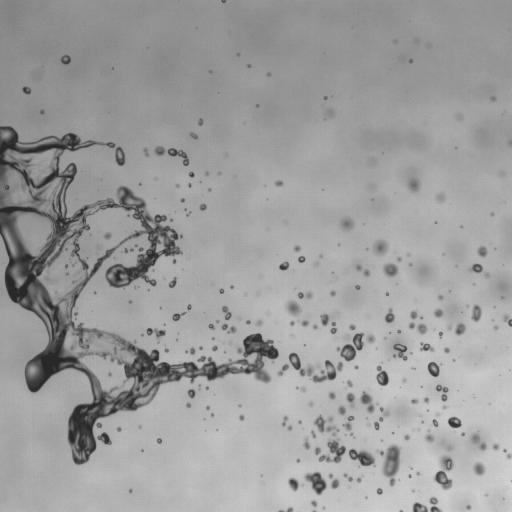droplet: (336, 332, 376, 361), (432, 454, 454, 490), (320, 310, 340, 335), (359, 390, 379, 413), (470, 430, 487, 451), (145, 328, 166, 344), (284, 299, 302, 317), (444, 322, 465, 336), (372, 238, 388, 256), (392, 343, 407, 361), (446, 416, 462, 432), (435, 384, 449, 402), (382, 262, 398, 277), (427, 361, 442, 377), (339, 216, 354, 231), (407, 177, 421, 193), (384, 308, 395, 325), (472, 462, 485, 476), (471, 304, 481, 322), (328, 473, 339, 489), (419, 342, 435, 352), (345, 392, 355, 408), (323, 108, 335, 120), (424, 428, 434, 442), (435, 191, 446, 203), (409, 310, 423, 319), (342, 379, 353, 390), (17, 133, 28, 144), (61, 149, 72, 160), (178, 185, 189, 196), (145, 205, 156, 216), (340, 229, 351, 240), (139, 238, 150, 249), (366, 250, 377, 261), (286, 252, 297, 263), (382, 252, 393, 263), (156, 254, 167, 265), (126, 256, 137, 267), (373, 266, 384, 277), (156, 278, 167, 289), (218, 294, 229, 305), (423, 314, 434, 325), (461, 314, 472, 325), (434, 317, 445, 328), (164, 321, 175, 332), (336, 322, 347, 333), (233, 332, 244, 343), (396, 334, 407, 345), (35, 341, 46, 352), (407, 341, 418, 352), (422, 351, 433, 362), (330, 352, 341, 363), (276, 353, 287, 364), (165, 354, 176, 365), (60, 367, 71, 378), (48, 373, 59, 384), (195, 374, 206, 385), (335, 394, 346, 405), (116, 408, 127, 419), (334, 414, 345, 425), (58, 423, 69, 434), (293, 429, 304, 440), (319, 431, 330, 442), (392, 435, 403, 446), (61, 442, 72, 453), (365, 444, 376, 455), (475, 451, 486, 462), (373, 454, 384, 465), (395, 467, 406, 478), (502, 313, 511, 326), (477, 246, 487, 257), (168, 276, 177, 288), (60, 55, 70, 65), (433, 308, 443, 318), (278, 261, 289, 270), (185, 346, 195, 355), (187, 389, 196, 398), (193, 125, 202, 134), (78, 133, 87, 142), (418, 180, 427, 189), (400, 182, 409, 191), (131, 187, 140, 196), (352, 219, 361, 228), (346, 228, 355, 237), (380, 232, 389, 241), (366, 238, 375, 247), (475, 255, 484, 264), (288, 258, 297, 267), (101, 259, 110, 268), (145, 268, 154, 277), (134, 276, 143, 285), (434, 300, 443, 309), (296, 311, 305, 320), (389, 320, 398, 329), (248, 325, 257, 334), (124, 333, 133, 342), (420, 333, 429, 342), (203, 348, 212, 357), (158, 353, 167, 362), (184, 353, 193, 362), (188, 353, 197, 362), (301, 374, 310, 383), (180, 375, 189, 384), (433, 375, 442, 384), (302, 391, 311, 400), (84, 394, 93, 403), (371, 409, 380, 418), (438, 417, 447, 426), (91, 426, 100, 435), (308, 438, 317, 447), (379, 442, 388, 451), (320, 445, 329, 454), (397, 451, 406, 460), (340, 452, 349, 461), (333, 470, 342, 479), (296, 475, 305, 484), (338, 477, 347, 486), (323, 485, 332, 494), (328, 391, 336, 401), (22, 86, 31, 94), (254, 318, 263, 326), (189, 132, 198, 139), (142, 147, 149, 156), (356, 474, 363, 483), (310, 499, 317, 508), (296, 386, 306, 392), (455, 113, 463, 120), (103, 232, 111, 239), (293, 245, 301, 252), (298, 255, 305, 263), (208, 323, 216, 330), (348, 323, 356, 330), (492, 443, 500, 450), (445, 444, 453, 451), (0, 276, 5, 287), (274, 180, 283, 186), (311, 323, 320, 329), (437, 330, 443, 339), (310, 429, 316, 438), (199, 203, 206, 210), (147, 147, 154, 154), (185, 164, 192, 171), (209, 169, 216, 176), (99, 193, 106, 200), (65, 211, 72, 218), (159, 220, 166, 227), (129, 237, 136, 244), (173, 238, 180, 245), (124, 240, 131, 247), (485, 246, 492, 253), (2, 256, 9, 263), (401, 256, 408, 263), (390, 274, 397, 281), (311, 288, 318, 295), (294, 297, 301, 304), (13, 302, 20, 309), (325, 308, 332, 315), (466, 308, 473, 315), (479, 312, 486, 319), (259, 313, 266, 320), (287, 313, 294, 320), (314, 317, 321, 324), (413, 317, 420, 324), (226, 319, 233, 326), (294, 321, 301, 328), (214, 322, 221, 329), (325, 322, 332, 329), (96, 323, 103, 330), (305, 324, 312, 331), (374, 335, 381, 342), (272, 341, 279, 348), (144, 347, 151, 354), (194, 350, 201, 357), (446, 351, 453, 358), (236, 352, 243, 359), (214, 358, 221, 365), (349, 358, 356, 365), (195, 361, 202, 368), (299, 361, 306, 368), (239, 371, 246, 378), (79, 372, 86, 379), (225, 372, 232, 379), (213, 376, 220, 383), (323, 378, 330, 385), (256, 379, 263, 386), (190, 382, 197, 389), (21, 384, 28, 391), (347, 386, 354, 393), (184, 395, 191, 402), (353, 395, 360, 402), (342, 400, 349, 407), (360, 402, 367, 409), (236, 407, 243, 414), (65, 408, 72, 415), (344, 408, 351, 415), (311, 424, 318, 431), (339, 426, 346, 433), (419, 429, 426, 436), (61, 431, 68, 438), (464, 432, 471, 439), (478, 435, 485, 442), (95, 439, 102, 446), (485, 441, 492, 448), (472, 442, 479, 449), (89, 451, 96, 458), (447, 451, 454, 458), (482, 462, 489, 469), (434, 464, 441, 471), (467, 466, 474, 473), (307, 467, 314, 474), (445, 470, 452, 477), (320, 472, 327, 479), (392, 472, 399, 479), (471, 472, 478, 479), (382, 475, 389, 482), (324, 478, 331, 485), (305, 480, 312, 487), (284, 483, 291, 490), (445, 487, 452, 494), (309, 489, 316, 496), (425, 502, 432, 509), (197, 118, 203, 126), (95, 244, 103, 250), (411, 398, 419, 404), (329, 290, 335, 297), (289, 332, 295, 339), (211, 345, 217, 352), (423, 397, 429, 404), (307, 400, 313, 407), (238, 414, 244, 421), (403, 434, 410, 440), (376, 488, 382, 495), (164, 345, 169, 353), (441, 404, 449, 409), (188, 171, 194, 177), (499, 171, 505, 177), (355, 284, 361, 290), (437, 294, 443, 300), (106, 371, 112, 377), (156, 438, 162, 444), (0, 241, 4, 250), (490, 96, 496, 101), (313, 261, 319, 266), (444, 347, 449, 353), (401, 377, 406, 383), (507, 139, 511, 146), (507, 446, 511, 453), (204, 171, 209, 176), (396, 256, 401, 261), (219, 288, 224, 293), (266, 310, 271, 315), (493, 325, 498, 330), (186, 402, 191, 407), (205, 405, 210, 410), (209, 412, 214, 417), (116, 426, 121, 431), (466, 504, 471, 509), (59, 62, 64, 67), (66, 62, 71, 67), (20, 91, 25, 96), (43, 108, 48, 113), (37, 113, 42, 118), (193, 118, 198, 123), (202, 119, 207, 124), (1, 121, 6, 126), (13, 126, 18, 131), (71, 129, 76, 134), (44, 131, 49, 136), (57, 133, 62, 138), (89, 135, 94, 140), (92, 136, 97, 141), (188, 136, 193, 141), (104, 137, 109, 142), (89, 144, 94, 149), (104, 145, 109, 150), (138, 145, 143, 150), (163, 145, 168, 150), (174, 145, 179, 150), (110, 147, 115, 152), (122, 147, 127, 152), (63, 148, 68, 153), (139, 151, 144, 156), (163, 151, 168, 156), (186, 153, 191, 158), (110, 155, 115, 160), (123, 156, 128, 161), (178, 156, 183, 161), (112, 160, 117, 165), (122, 162, 127, 167), (75, 165, 80, 170), (73, 174, 78, 179), (276, 175, 281, 180), (187, 176, 192, 181), (69, 181, 74, 186), (270, 182, 275, 187), (276, 185, 281, 190), (200, 198, 205, 203), (181, 201, 186, 206), (195, 201, 200, 206), (78, 203, 83, 208), (194, 204, 199, 209), (158, 210, 163, 215), (149, 212, 154, 217), (175, 229, 180, 234), (143, 232, 148, 237), (294, 240, 299, 245), (480, 241, 485, 246), (121, 242, 126, 247), (288, 245, 293, 250), (140, 249, 145, 254), (110, 251, 115, 256), (296, 251, 301, 256), (396, 251, 401, 256), (173, 253, 178, 258), (167, 254, 172, 259), (313, 255, 318, 260), (317, 257, 322, 262), (277, 259, 282, 264), (393, 260, 398, 265), (467, 262, 472, 267), (361, 264, 366, 269), (367, 266, 372, 271), (481, 266, 486, 271), (351, 267, 356, 272), (280, 269, 285, 274), (358, 270, 363, 275), (470, 270, 475, 275), (479, 270, 484, 275), (366, 275, 371, 280), (85, 281, 90, 286), (104, 281, 109, 286), (145, 282, 150, 287), (109, 285, 114, 290), (329, 285, 334, 290), (117, 286, 122, 291), (293, 289, 298, 294), (301, 289, 306, 294), (438, 289, 443, 294), (325, 291, 330, 296), (334, 292, 339, 297), (75, 297, 80, 302), (182, 306, 187, 311), (227, 306, 232, 311), (440, 306, 445, 311), (71, 307, 76, 312), (176, 308, 181, 313), (320, 309, 325, 314), (383, 309, 388, 314), (391, 309, 396, 314), (28, 310, 33, 315), (220, 311, 225, 316), (416, 311, 421, 316), (179, 314, 184, 319), (393, 316, 398, 321), (434, 316, 439, 321), (36, 317, 41, 322), (241, 317, 246, 322), (408, 317, 413, 322), (221, 318, 226, 323), (326, 320, 331, 325), (352, 320, 357, 325), (73, 321, 78, 326), (386, 321, 391, 326), (490, 321, 495, 326), (503, 321, 508, 326), (82, 323, 87, 328), (158, 325, 163, 330), (412, 326, 417, 331), (141, 328, 146, 333), (207, 328, 212, 333), (313, 328, 318, 333), (351, 329, 356, 334), (150, 332, 155, 337), (228, 332, 233, 337), (241, 333, 246, 338), (458, 333, 463, 338), (160, 334, 165, 339), (360, 336, 365, 341), (211, 340, 216, 345), (338, 343, 343, 348), (446, 343, 451, 348), (216, 346, 221, 351), (448, 346, 453, 351), (287, 348, 292, 353), (292, 348, 297, 353), (439, 348, 444, 353), (393, 349, 398, 354), (425, 349, 430, 354), (402, 350, 407, 355), (443, 352, 448, 357), (339, 356, 344, 361), (285, 359, 290, 364), (332, 361, 337, 366), (320, 363, 325, 368), (288, 364, 293, 369), (438, 366, 443, 371), (283, 369, 288, 374), (294, 369, 299, 374), (373, 369, 378, 374), (424, 369, 429, 374), (438, 369, 443, 374), (335, 370, 340, 375), (249, 371, 254, 376), (386, 372, 391, 377), (426, 372, 431, 377), (350, 378, 355, 383), (315, 381, 320, 386), (342, 381, 347, 386), (401, 382, 406, 387), (158, 383, 163, 388), (376, 383, 381, 388), (381, 384, 386, 389), (438, 389, 443, 394), (194, 390, 199, 395), (445, 391, 450, 396), (411, 393, 416, 398), (153, 394, 158, 399), (325, 396, 330, 401), (418, 397, 423, 402), (370, 399, 375, 404), (439, 400, 444, 405), (442, 400, 447, 405), (411, 402, 416, 407), (382, 404, 387, 409), (373, 405, 378, 410), (136, 406, 141, 411), (208, 407, 213, 412), (437, 407, 442, 412), (388, 408, 393, 413), (110, 412, 115, 417), (448, 412, 453, 417), (453, 412, 458, 417), (312, 414, 317, 419), (322, 414, 327, 419), (234, 416, 239, 421), (416, 416, 421, 421), (95, 417, 100, 422), (278, 417, 283, 422), (349, 419, 354, 424), (285, 420, 290, 425), (460, 420, 465, 425), (378, 421, 383, 426), (369, 423, 374, 428), (445, 423, 450, 428), (282, 425, 287, 430), (430, 425, 435, 430), (455, 426, 460, 431), (471, 428, 476, 433), (345, 429, 350, 434), (408, 432, 413, 437), (307, 434, 312, 439), (108, 435, 113, 440), (408, 436, 413, 441), (493, 438, 498, 443), (299, 439, 304, 444), (424, 440, 429, 445), (337, 441, 342, 446), (300, 446, 305, 451), (355, 447, 360, 452), (497, 447, 502, 452), (501, 452, 506, 457), (68, 457, 73, 462), (354, 458, 359, 463), (321, 459, 326, 464), (80, 462, 85, 467), (361, 464, 366, 469), (367, 464, 372, 469), (410, 470, 415, 475), (431, 470, 436, 475), (332, 473, 337, 478), (352, 474, 357, 479), (351, 478, 356, 483), (393, 480, 398, 485), (450, 480, 455, 485), (435, 482, 440, 487), (296, 485, 301, 490), (381, 488, 386, 493), (321, 489, 326, 494), (375, 493, 380, 498), (434, 502, 439, 507), (308, 504, 313, 509), (282, 505, 287, 510), (314, 505, 319, 510), (415, 471, 421, 475), (408, 58, 412, 63), (266, 72, 271, 76), (175, 183, 179, 188), (187, 182, 191, 187), (180, 198, 185, 202), (318, 254, 323, 258), (134, 285, 139, 289), (245, 320, 250, 324), (397, 329, 401, 334), (198, 346, 203, 350), (353, 365, 358, 369), (460, 432, 465, 436), (296, 458, 300, 463), (323, 96, 327, 100), (217, 171, 221, 175), (153, 176, 157, 180), (490, 212, 494, 216), (459, 224, 463, 228), (406, 252, 410, 256), (408, 262, 412, 266), (230, 285, 234, 289), (411, 366, 415, 370), (205, 386, 209, 390), (411, 488, 415, 492), (484, 493, 488, 497), (221, 0, 226, 3), (246, 64, 251, 67), (237, 404, 242, 407), (417, 414, 422, 417), (129, 488, 132, 493), (508, 314, 511, 319), (508, 457, 511, 462), (291, 508, 296, 511), (408, 508, 413, 511), (464, 508, 469, 511), (393, 40, 397, 43), (236, 53, 240, 56), (208, 70, 212, 73), (208, 187, 211, 191), (169, 218, 173, 221), (365, 247, 369, 250), (385, 291, 388, 295), (244, 292, 247, 296), (128, 300, 132, 303), (466, 304, 469, 308), (215, 320, 219, 323), (211, 337, 215, 340), (452, 358, 455, 362), (298, 420, 301, 424), (138, 425, 141, 429), (409, 466, 413, 469), (408, 474, 411, 478), (322, 505, 325, 509), (398, 509, 403, 511), (0, 121, 2, 126), (0, 235, 2, 240), (256, 104, 259, 107), (454, 146, 457, 149), (138, 182, 141, 185), (371, 198, 374, 201), (337, 243, 340, 246), (147, 288, 150, 291), (93, 291, 96, 294), (501, 296, 504, 299), (491, 318, 494, 321), (432, 328, 435, 331), (140, 333, 143, 336), (383, 336, 386, 339), (375, 347, 378, 350), (223, 350, 226, 353), (409, 351, 412, 354), (387, 358, 390, 361), (488, 402, 491, 405), (417, 428, 420, 431), (380, 439, 383, 442), (219, 1, 222, 4), (222, 2, 225, 5), (61, 52, 64, 55), (66, 52, 69, 55), (239, 52, 242, 55), (406, 57, 409, 60), (412, 58, 415, 61), (247, 60, 250, 63), (411, 61, 414, 64), (407, 62, 410, 65), (250, 63, 253, 66), (108, 66, 111, 69), (247, 67, 250, 70), (23, 83, 26, 86), (30, 89, 33, 92), (323, 92, 326, 95), (327, 95, 330, 98), (320, 96, 323, 99), (324, 99, 327, 102), (255, 100, 258, 103), (252, 103, 255, 106), (255, 106, 258, 109), (37, 108, 40, 111), (48, 132, 51, 135), (41, 134, 44, 137), (194, 138, 197, 141), (113, 145, 116, 148), (84, 146, 87, 149), (182, 148, 185, 151), (188, 159, 191, 162), (193, 172, 196, 175), (208, 172, 211, 175), (140, 180, 143, 183), (176, 180, 179, 183), (190, 183, 193, 186), (172, 184, 175, 187), (185, 184, 188, 187), (207, 184, 210, 187), (66, 187, 69, 190), (204, 187, 207, 190), (210, 188, 213, 191), (208, 191, 211, 194), (180, 195, 183, 198), (177, 198, 180, 201), (64, 199, 67, 202), (205, 203, 208, 206), (202, 209, 205, 212), (185, 210, 188, 213), (493, 211, 496, 214), (188, 213, 191, 216), (490, 215, 493, 218), (166, 216, 169, 219), (431, 219, 434, 222), (436, 220, 439, 223), (433, 223, 436, 226), (458, 227, 461, 230), (182, 234, 185, 237), (131, 245, 134, 248), (179, 247, 182, 250), (304, 258, 307, 261), (301, 261, 304, 264), (411, 261, 414, 264), (172, 263, 175, 266), (330, 273, 333, 276), (170, 277, 173, 280), (175, 279, 178, 282), (155, 281, 158, 284), (353, 282, 356, 285), (357, 282, 360, 285), (165, 283, 168, 286), (174, 283, 177, 286), (124, 285, 127, 288), (232, 286, 235, 289), (352, 286, 355, 289), (359, 286, 362, 289), (95, 289, 98, 292), (356, 289, 359, 292), (216, 290, 219, 293), (223, 290, 226, 293), (388, 292, 391, 295), (219, 293, 222, 296), (385, 295, 388, 298), (434, 295, 437, 298), (128, 296, 131, 299), (125, 298, 128, 301), (131, 300, 134, 303), (126, 302, 129, 305), (161, 305, 164, 308), (156, 306, 159, 309), (190, 306, 193, 309), (71, 318, 74, 321), (176, 319, 179, 322), (205, 322, 208, 325), (334, 324, 337, 327), (150, 326, 153, 329), (438, 328, 441, 331), (496, 328, 499, 331), (400, 329, 403, 332), (441, 329, 444, 332), (335, 330, 338, 333), (164, 331, 167, 334), (328, 331, 331, 334), (385, 331, 388, 334), (441, 333, 444, 336), (436, 334, 439, 337), (176, 335, 179, 338), (208, 336, 211, 339), (172, 337, 175, 340), (177, 338, 180, 341), (302, 340, 305, 343), (422, 340, 425, 343), (402, 342, 405, 345), (429, 343, 432, 346), (165, 345, 168, 348), (214, 349, 217, 352), (454, 356, 457, 359), (399, 357, 402, 360), (428, 359, 431, 362), (449, 359, 452, 362), (452, 361, 455, 364), (436, 362, 439, 365), (357, 364, 360, 367), (412, 364, 415, 367), (354, 368, 357, 371), (411, 369, 414, 372), (405, 378, 408, 381), (374, 379, 377, 382), (417, 384, 420, 387), (422, 384, 425, 387), (441, 384, 444, 387), (292, 386, 295, 389), (419, 387, 422, 390), (296, 388, 299, 391), (433, 388, 436, 391), (427, 395, 430, 398), (408, 398, 411, 401), (183, 401, 186, 404), (236, 401, 239, 404), (239, 401, 242, 404), (206, 402, 209, 405), (190, 404, 193, 407), (203, 404, 206, 407), (241, 404, 244, 407), (186, 407, 189, 410), (203, 407, 206, 410), (213, 412, 216, 415), (353, 415, 356, 418), (243, 416, 246, 419), (296, 417, 299, 420), (435, 417, 438, 420), (301, 420, 304, 423), (429, 420, 432, 423), (297, 423, 300, 426), (115, 424, 118, 427), (215, 425, 218, 428), (120, 426, 123, 429), (390, 428, 393, 431), (375, 429, 378, 432), (214, 430, 217, 433), (352, 432, 355, 435), (403, 432, 406, 435), (349, 435, 352, 438), (461, 435, 464, 438), (161, 439, 164, 442), (154, 441, 157, 444), (105, 443, 108, 446), (137, 448, 140, 451), (143, 448, 146, 451), (293, 458, 296, 461), (299, 459, 302, 462), (411, 464, 414, 467), (419, 470, 422, 473), (405, 474, 408, 477), (417, 474, 420, 477), (360, 477, 363, 480), (409, 477, 412, 480), (414, 488, 417, 491), (125, 489, 128, 492), (131, 489, 134, 492), (408, 489, 411, 492), (373, 490, 376, 493), (364, 492, 367, 495), (380, 492, 383, 495), (361, 495, 364, 498), (464, 502, 467, 505), (468, 502, 471, 505), (324, 504, 327, 507), (400, 506, 403, 509), (276, 507, 279, 510), (396, 507, 399, 510), (184, 208, 186, 211), (434, 221, 437, 223), (442, 253, 445, 255), (331, 271, 334, 273), (472, 283, 475, 285), (448, 290, 451, 292), (493, 305, 495, 308), (159, 306, 161, 309), (163, 323, 165, 326), (389, 331, 391, 334), (176, 338, 178, 341), (426, 409, 429, 411), (421, 420, 423, 423), (391, 432, 394, 434), (141, 448, 143, 451), (260, 474, 262, 477), (397, 479, 400, 481), (509, 366, 511, 369), (509, 476, 511, 479), (321, 509, 324, 511), (89, 233, 91, 235), (494, 247, 496, 249), (455, 265, 457, 267), (152, 269, 154, 271), (294, 287, 296, 289), (177, 332, 179, 334), (303, 344, 305, 346), (420, 385, 422, 387), (457, 389, 459, 391), (203, 418, 205, 420), (216, 429, 218, 431), (365, 496, 367, 498), (225, 0, 228, 1), (204, 430, 206, 431), (510, 480, 511, 482), (112, 68, 113, 69), (302, 428, 303, 429)
ligament: (313, 414, 401, 487), (277, 352, 343, 383), (154, 145, 189, 166), (337, 405, 355, 438), (412, 496, 442, 511), (373, 406, 389, 430), (171, 304, 191, 321), (468, 263, 490, 278), (376, 361, 389, 386), (354, 260, 370, 277), (408, 322, 427, 335), (289, 317, 310, 327), (429, 411, 442, 427), (281, 415, 292, 431), (221, 305, 231, 320), (221, 323, 236, 333), (297, 290, 313, 299), (302, 435, 310, 449), (502, 448, 511, 459), (342, 473, 353, 482), (277, 506, 293, 511), (365, 417, 370, 426), (186, 211, 191, 216), (198, 384, 200, 391), (311, 510, 317, 511)
